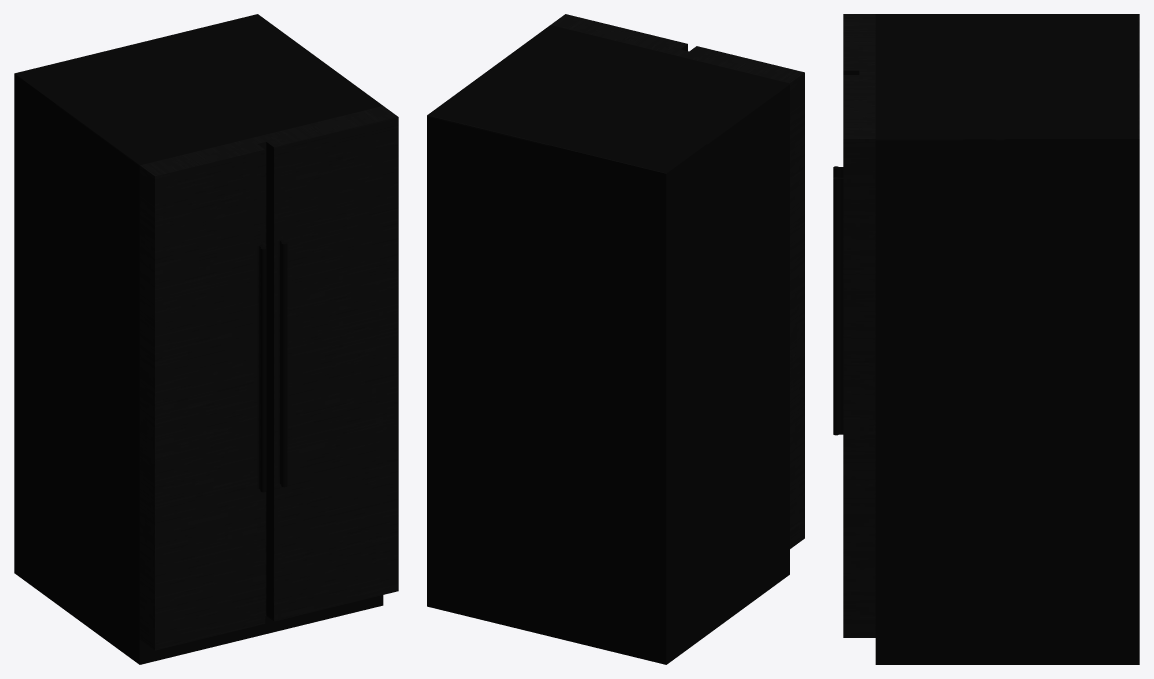
Rendered from refrigerator.fbx.
3 views of the same model, side by side, from view 1: azimuth 30°, elevation 25°; view 2: azimuth 150°, elevation 25°; view 3: azimuth 270°, elevation 25° (orthographic). The views are drawn at different scales.
Parts seen in each view (by area): view 1: Cylinder; view 2: Cylinder; view 3: Cylinder.
Boxes of the visible parts, box(x1,y1,x2,y2) form: Cylinder: box(14, 14, 398, 664); Cylinder: box(427, 14, 804, 664); Cylinder: box(833, 14, 1139, 664).
Size of the model in its own units: 90.82 by 178 by 94.06.
Materials: 1 (1 with a texture image).
